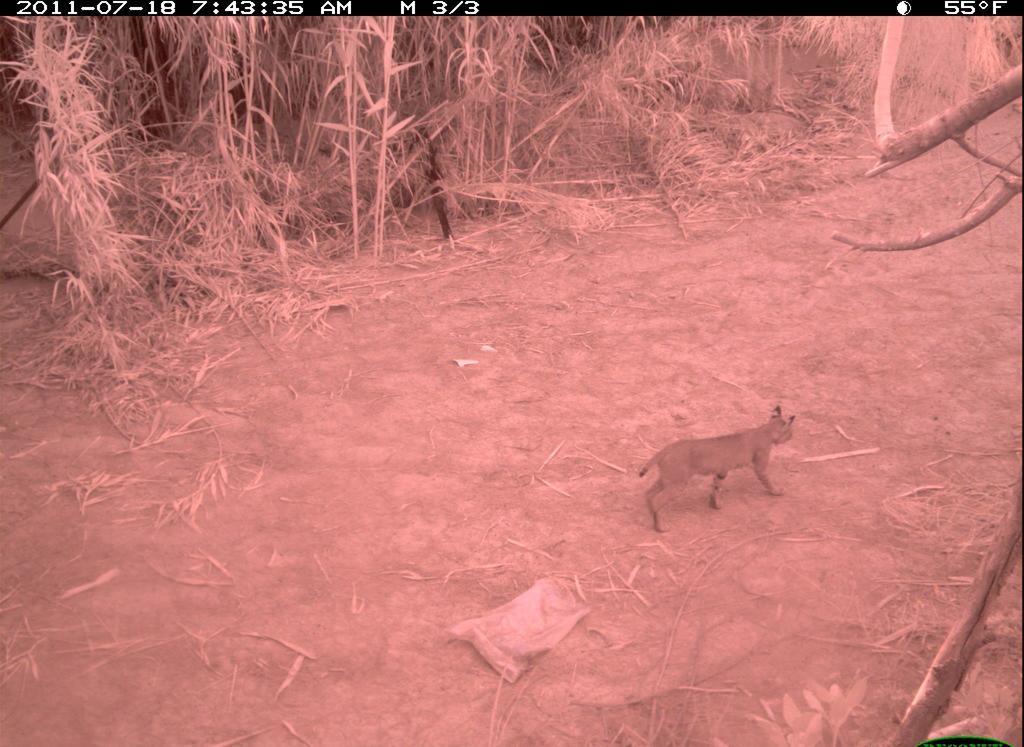bobcat: (635, 400, 806, 542)
